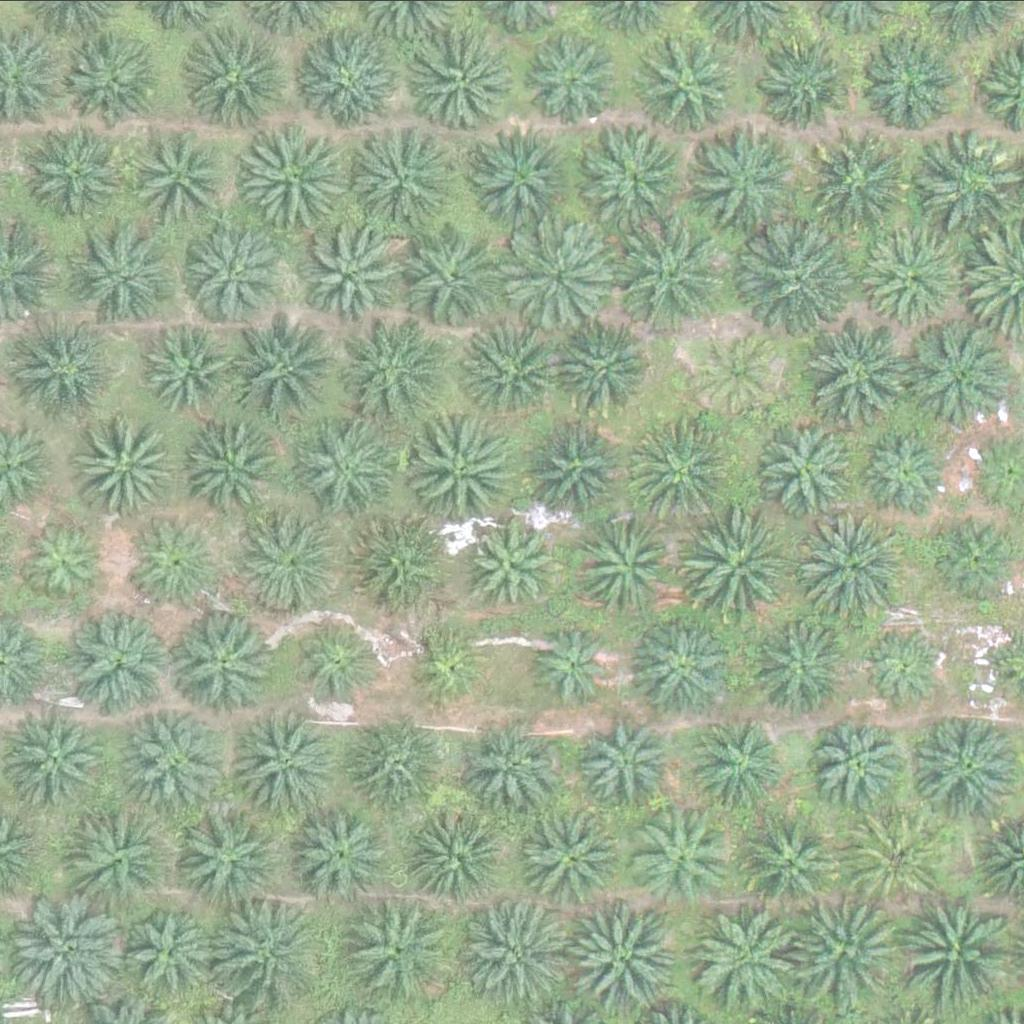Kelapa_Sawit: (213, 895, 327, 1008), (349, 891, 463, 1004), (617, 221, 731, 334), (789, 895, 903, 1008), (16, 896, 129, 1009), (461, 898, 574, 1011), (62, 798, 175, 911), (403, 420, 516, 533), (241, 121, 354, 234), (910, 128, 1023, 241), (743, 221, 856, 334), (796, 511, 909, 624), (684, 510, 797, 623), (697, 901, 810, 1014), (568, 895, 681, 1008), (58, 214, 172, 326), (892, 894, 1006, 1006), (172, 799, 285, 911), (115, 701, 228, 813), (230, 705, 343, 817), (230, 501, 343, 613), (230, 312, 343, 424), (502, 221, 615, 333), (345, 120, 458, 232), (626, 413, 739, 525), (910, 711, 1023, 823), (809, 315, 922, 427), (902, 320, 1015, 432), (125, 905, 226, 1005), (406, 800, 507, 900), (289, 800, 390, 900), (9, 711, 110, 811), (353, 716, 454, 816), (462, 711, 563, 811), (173, 613, 274, 713), (349, 501, 450, 601), (84, 418, 185, 518), (296, 419, 397, 519), (525, 428, 626, 528), (456, 325, 557, 425), (356, 315, 457, 415), (11, 319, 112, 419), (183, 221, 284, 321), (299, 224, 400, 324), (464, 126, 565, 226), (26, 124, 127, 224), (130, 125, 231, 225), (187, 31, 288, 131), (295, 25, 396, 125), (420, 26, 521, 126), (864, 225, 965, 325), (758, 420, 859, 520), (577, 516, 678, 616), (637, 618, 738, 718), (750, 616, 851, 716), (809, 714, 910, 814), (627, 808, 728, 908), (737, 811, 838, 911), (520, 804, 620, 904), (71, 611, 171, 711), (182, 413, 282, 513), (406, 231, 506, 331), (65, 31, 165, 131), (854, 29, 954, 129), (634, 37, 734, 137), (750, 32, 850, 132), (583, 126, 683, 226), (700, 126, 800, 226), (813, 134, 913, 234), (553, 324, 653, 424), (846, 805, 946, 905), (401, 619, 489, 707), (288, 619, 376, 707), (469, 524, 557, 612), (21, 510, 109, 598), (696, 327, 784, 415), (863, 623, 951, 711), (695, 720, 783, 808), (586, 721, 674, 809), (861, 427, 950, 514), (533, 625, 621, 712), (132, 516, 220, 603), (141, 327, 229, 414), (529, 36, 617, 123), (935, 518, 1023, 605)
